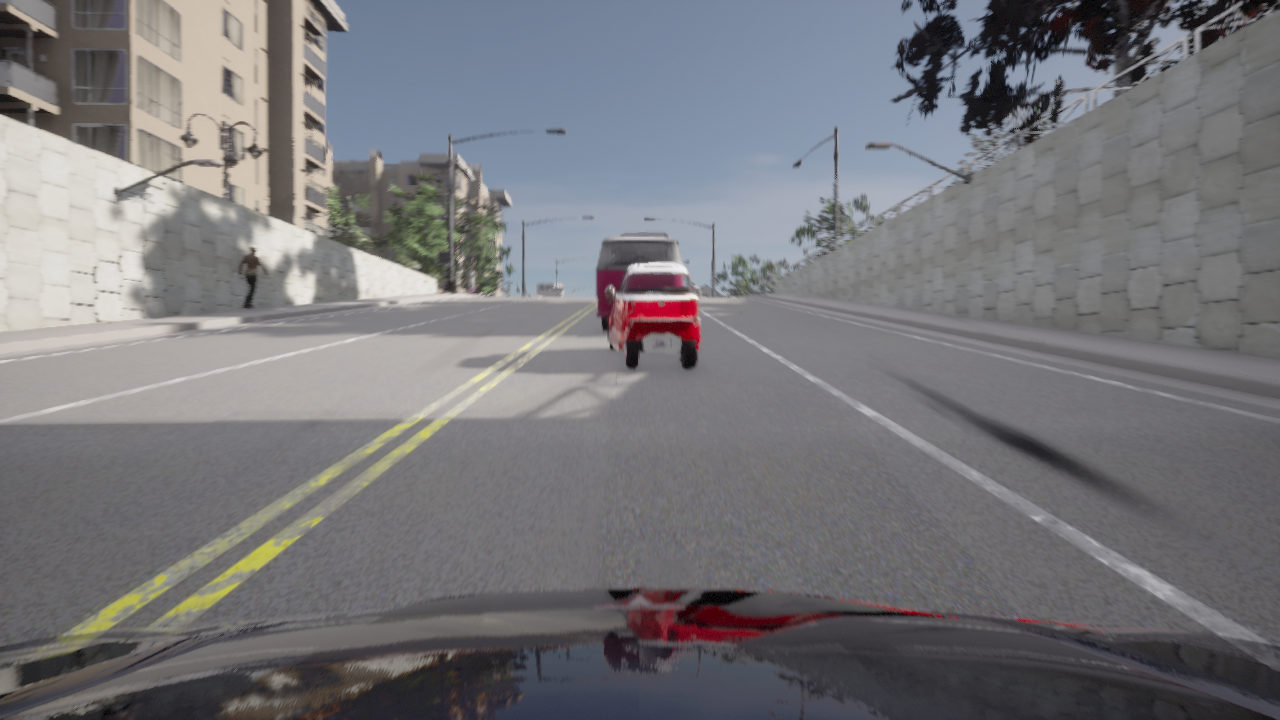cyclist: (0, 588, 1279, 719), (605, 262, 700, 368), (596, 236, 681, 330), (621, 232, 667, 236)
pedestrian: (238, 246, 270, 309), (466, 268, 476, 294), (762, 284, 768, 293)
